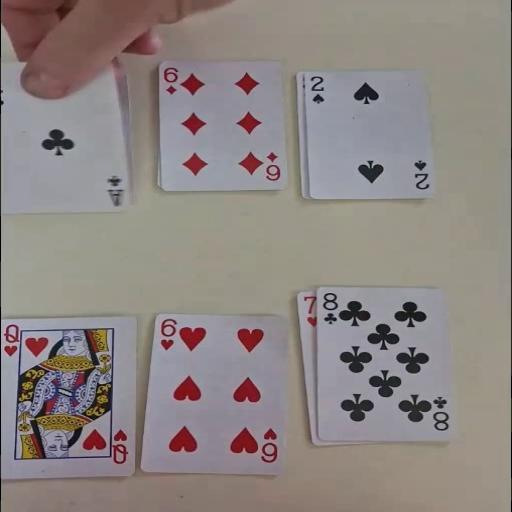2: (411, 158, 431, 190), (308, 74, 326, 104)
6: (258, 425, 278, 464), (157, 316, 178, 352), (263, 150, 282, 182), (161, 66, 179, 96)
8: (430, 394, 450, 432), (320, 290, 339, 326)
Q: (109, 427, 129, 465), (2, 322, 20, 357)
